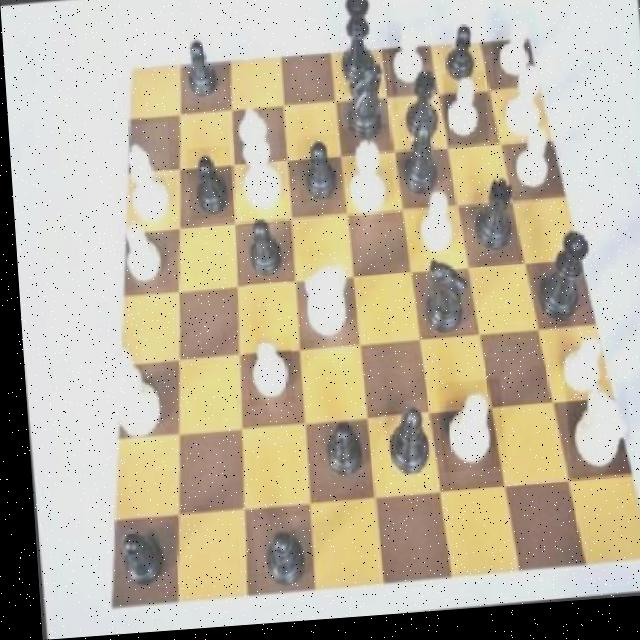bishop: (389, 122, 445, 212), (371, 406, 427, 493)
black-bishop: (324, 0, 388, 101)
black-king: (335, 61, 394, 155), (410, 257, 472, 345)
black-knight: (245, 518, 309, 605), (104, 518, 164, 606), (309, 416, 365, 488), (176, 27, 224, 109), (431, 23, 485, 95), (184, 148, 232, 224), (235, 218, 284, 291), (292, 139, 338, 208)
black-pawn: (524, 231, 599, 341)
black-queen: (462, 180, 519, 273), (394, 70, 445, 157)
black-rook: (432, 385, 500, 479), (117, 123, 173, 236)
white-bishop: (225, 100, 282, 225)
white-king: (558, 387, 626, 491), (292, 259, 354, 356)
white-knight: (400, 194, 460, 268), (502, 129, 560, 205), (545, 337, 603, 411), (113, 216, 167, 292), (489, 15, 540, 92), (438, 77, 488, 152), (239, 340, 290, 412), (385, 24, 428, 97)
white-pawn: (93, 334, 164, 455)
white-queen: (337, 129, 393, 231), (494, 65, 551, 153)
